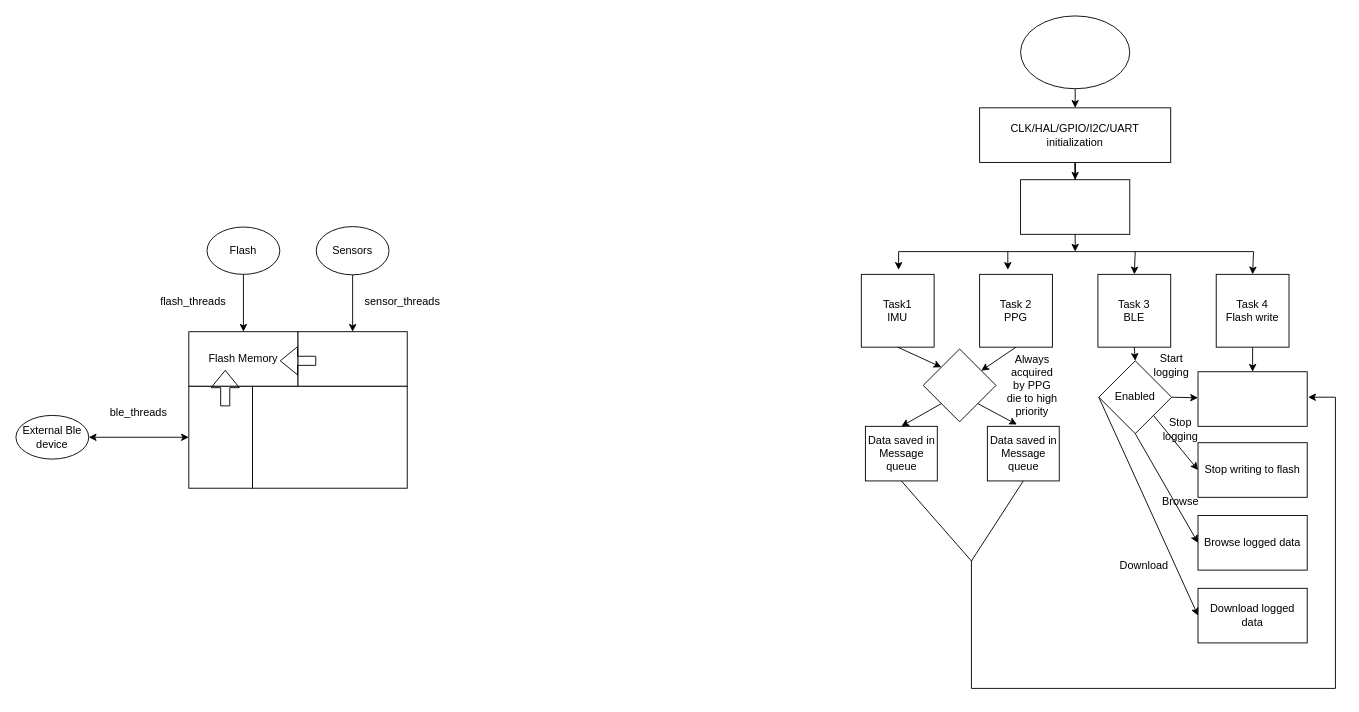
The diagram is 1359 pixels wide and 712 high, and some of its shapes have lost their labels. The shapes that lost their labels are listed below. From the top down, each one's centre as x and y in pixels, then its label:
At point (1075, 52): "Power the board".
At point (1075, 206): "Sensors/Ble/Flash initialization".
At point (352, 358): "Sensor data".
At point (959, 385): "Mutexed I2C bus".
At point (1252, 398): "Start writing to flash".
At point (220, 436): "BLE".
At point (329, 436): "Rtos system".
